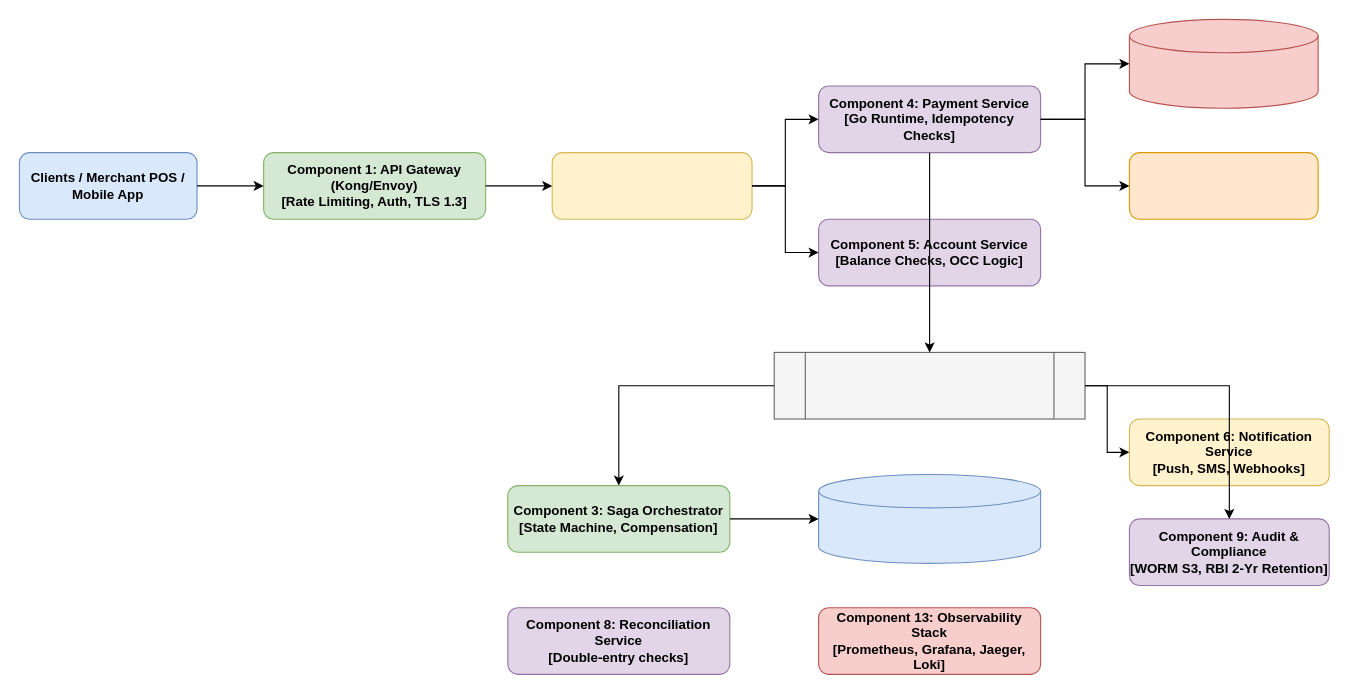
This 1349x694 diagram has some shape labels left out. Here are the shapes that lost their labels. From the top down, the box of each, then its label:
(1128, 18, 1318, 108): Component 12: Redis Cluster (96GB) [Idempotency Keys, Rate Limits, Locks]
(551, 152, 752, 219): Component 2: NLB / ALB Pool [L7 Traffic Distribution]
(1128, 152, 1318, 219): Component 7: Fraud Engine [<15ms SLA, CB-FRAUD]
(773, 351, 1085, 419): Component 10: Apache Kafka Cluster [3 Brokers, 36 Partitions, EOS Outbox]
(818, 473, 1041, 563): Component 11: CockroachDB Cluster [12 Nodes, Serializable ACID, Sharded]
